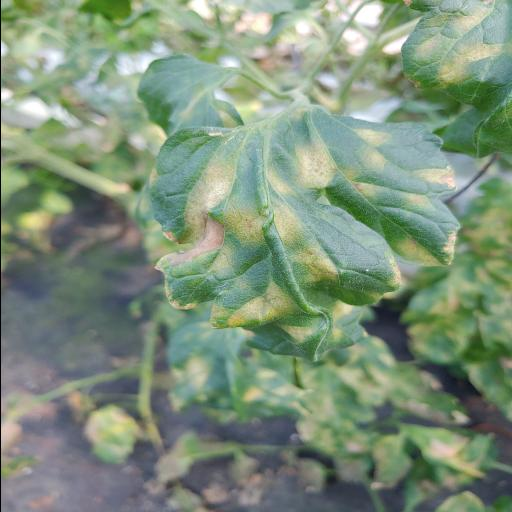Leaf Mold: (147, 108, 461, 362)
